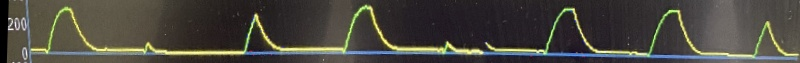normal_volume: (19, 0, 800, 63)
